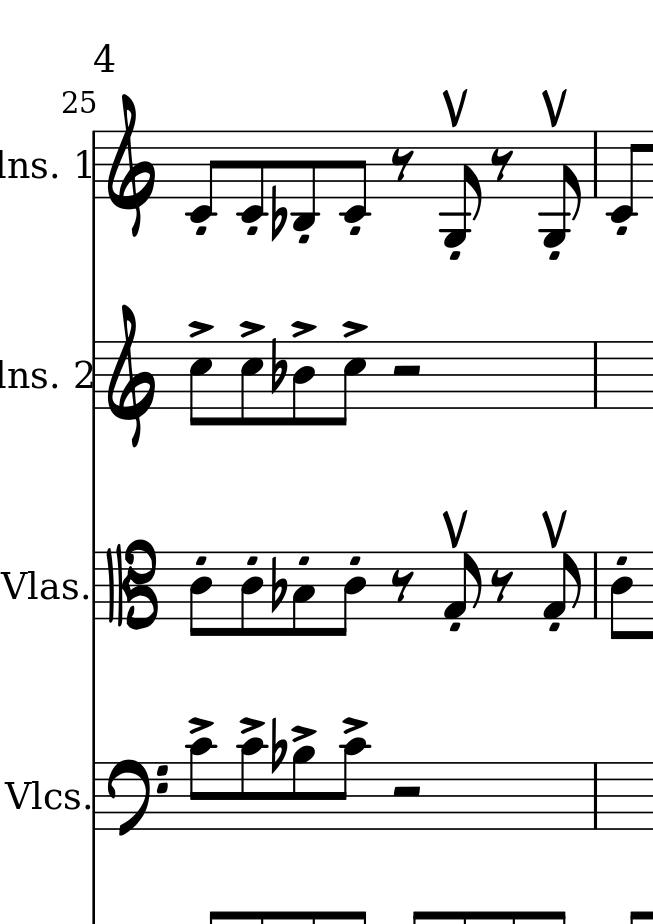2: (60, 89, 79, 115)
4: (94, 40, 118, 72)
5: (79, 87, 96, 115)
8_-2: (605, 129, 646, 226), (186, 128, 224, 224), (236, 128, 266, 224), (340, 129, 370, 223)
8_-3: (291, 128, 319, 230)
8_-5: (538, 128, 583, 250), (439, 129, 483, 248)
8_1: (441, 550, 484, 621), (541, 551, 581, 619)
8_10: (328, 736, 370, 831), (186, 737, 217, 831), (238, 736, 265, 832)
8_3: (288, 549, 317, 640)
8_4: (330, 550, 373, 638), (609, 551, 636, 642), (238, 549, 265, 639), (187, 551, 214, 640), (290, 339, 317, 428)
8_5: (331, 340, 367, 429), (188, 339, 214, 428), (239, 340, 263, 430)
8_9: (289, 746, 318, 833)
Accent_above: (342, 317, 371, 341), (288, 317, 318, 340), (235, 319, 267, 340), (186, 319, 217, 340), (290, 722, 320, 742), (187, 714, 215, 734), (239, 714, 266, 734), (341, 715, 368, 734)
Cclef: (102, 538, 157, 631)
Fclef: (103, 758, 172, 839)
Flat: (269, 334, 289, 394), (269, 552, 289, 612), (268, 183, 287, 243), (269, 711, 285, 777)
Gclef: (108, 93, 157, 236), (107, 305, 157, 444)
Rests2: (391, 362, 425, 383), (389, 784, 425, 799)
Rests4: (488, 568, 516, 603), (388, 569, 415, 603)
Rests8: (489, 146, 516, 181), (390, 147, 413, 183)
Single_barline: (587, 131, 603, 197), (587, 765, 603, 827), (89, 340, 103, 410), (588, 342, 603, 406), (87, 764, 102, 827), (88, 551, 102, 618), (588, 554, 603, 614), (89, 130, 101, 197)
Vla: (3, 565, 57, 609)
Vlc: (1, 774, 66, 814)
